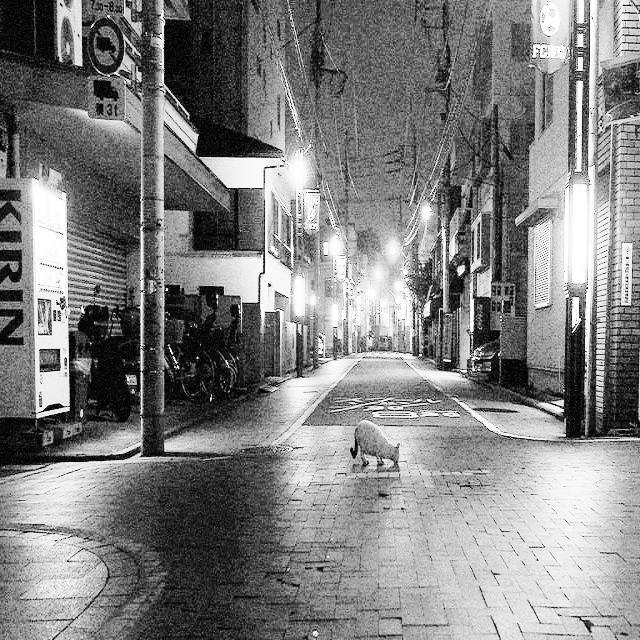Cat: (350, 410, 417, 505)
Motorcycle: (56, 284, 183, 455), (147, 273, 247, 450)
